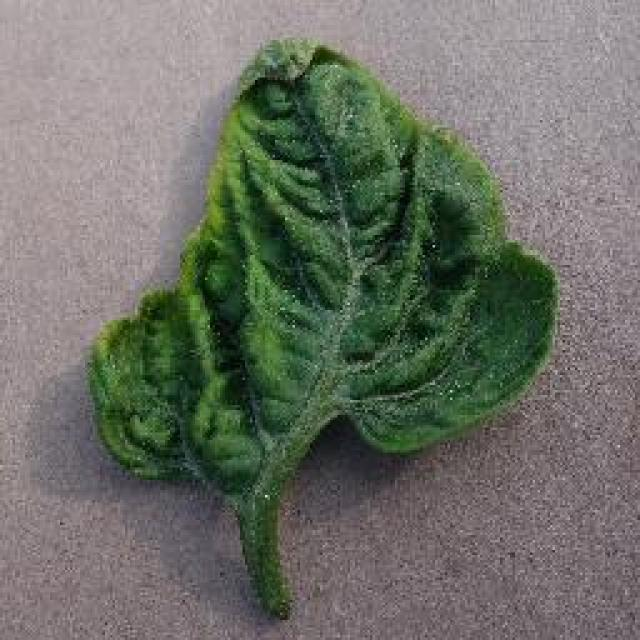Tomato yellow virus leaf: (89, 35, 560, 485)
